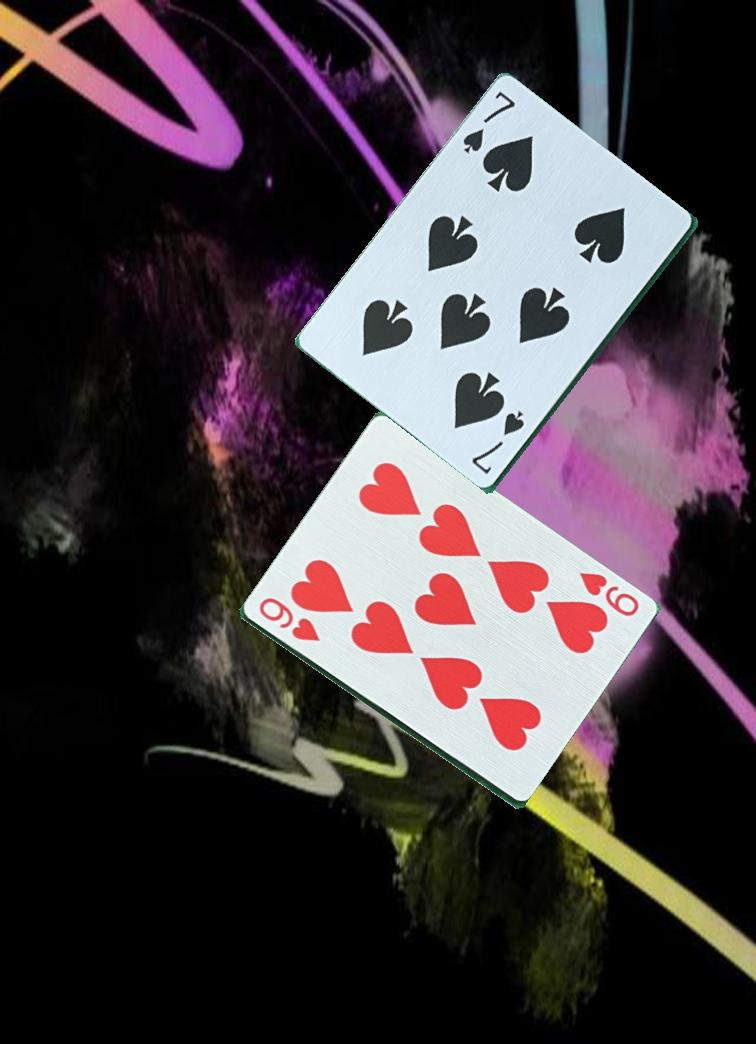7s: (469, 406, 528, 477), (459, 87, 519, 156)
9h: (570, 568, 642, 620), (254, 593, 322, 645)
